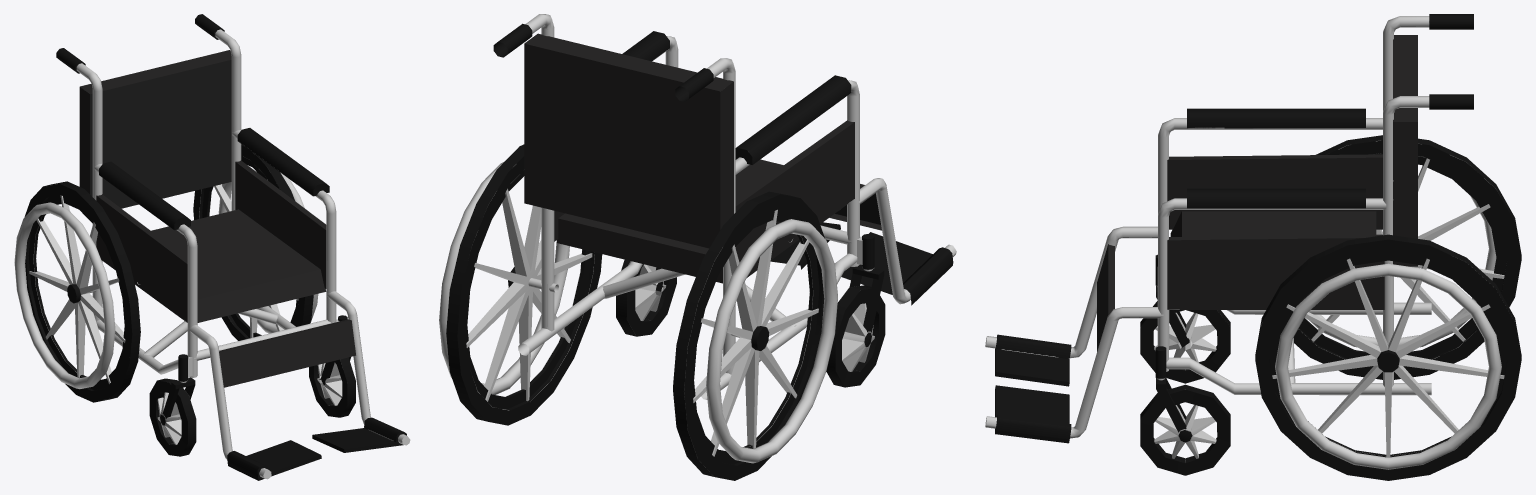
Rendered from wheelchair.glb.
3 views of the same model, side by side, from view 1: azimuth 30°, elevation 25°; view 2: azimuth 150°, elevation 25°; view 3: azimuth 270°, elevation 25° (orthographic). The views are drawn at different scales.
Visible parts, largest first — view 1: wheelchair_geo; view 2: wheelchair_geo; view 3: wheelchair_geo.
Boxes of the visible parts, <box> form: wheelchair_geo: <box>14,14,410,480</box>; wheelchair_geo: <box>439,14,956,480</box>; wheelchair_geo: <box>985,14,1521,480</box>.
Bounding box in the file's own units: 0.683 × 0.9613 × 1.25.
Materials: 1 (1 with a texture image).
